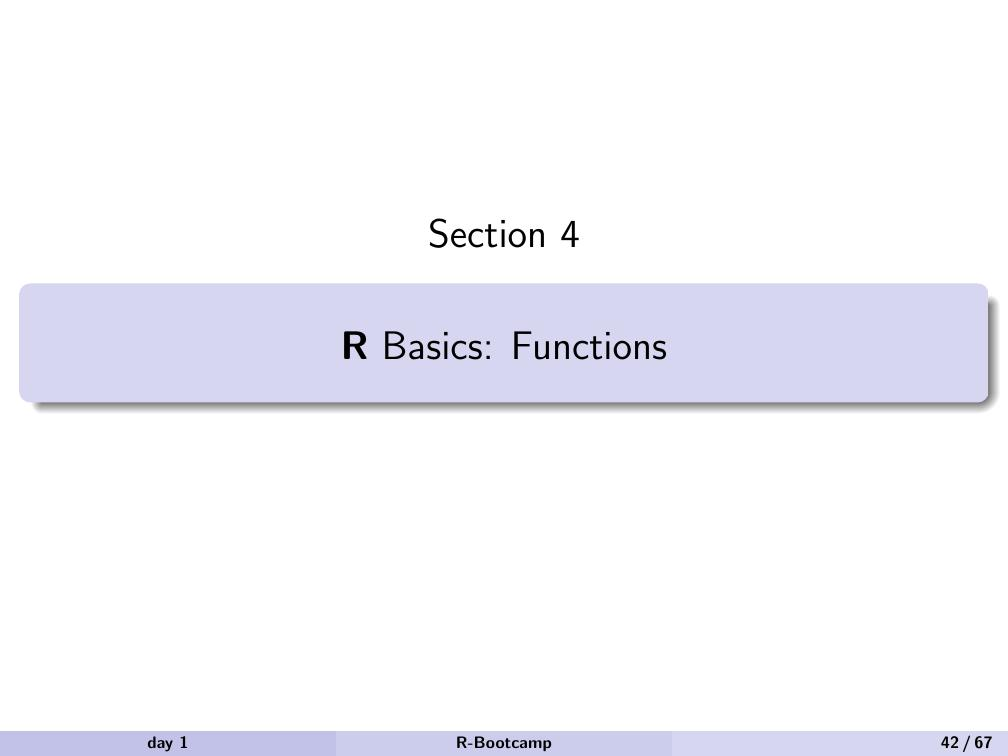Title: (338, 318, 678, 372)
